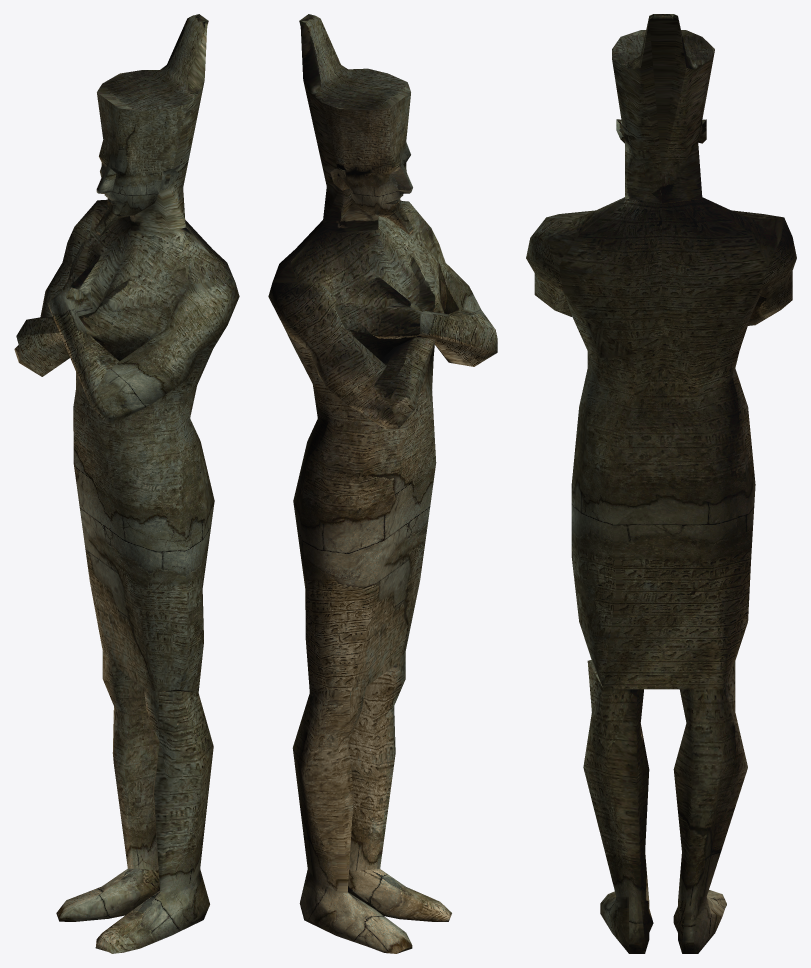
Rendered from farao.obj.
3 views of the same model, side by side, from view 1: azimuth 30°, elevation 25°; view 2: azimuth 150°, elevation 25°; view 3: azimuth 270°, elevation 25° (orthographic). The views are drawn at different scales.
Parts seen in each view (by area): view 1: Group; view 2: Group; view 3: Group.
Part boxes in pixels (x1,y1,x2,y2): Group: (14, 14, 239, 953); Group: (268, 14, 497, 953); Group: (526, 14, 796, 953).
Size of the model in its own units: 187 by 1058 by 275.
